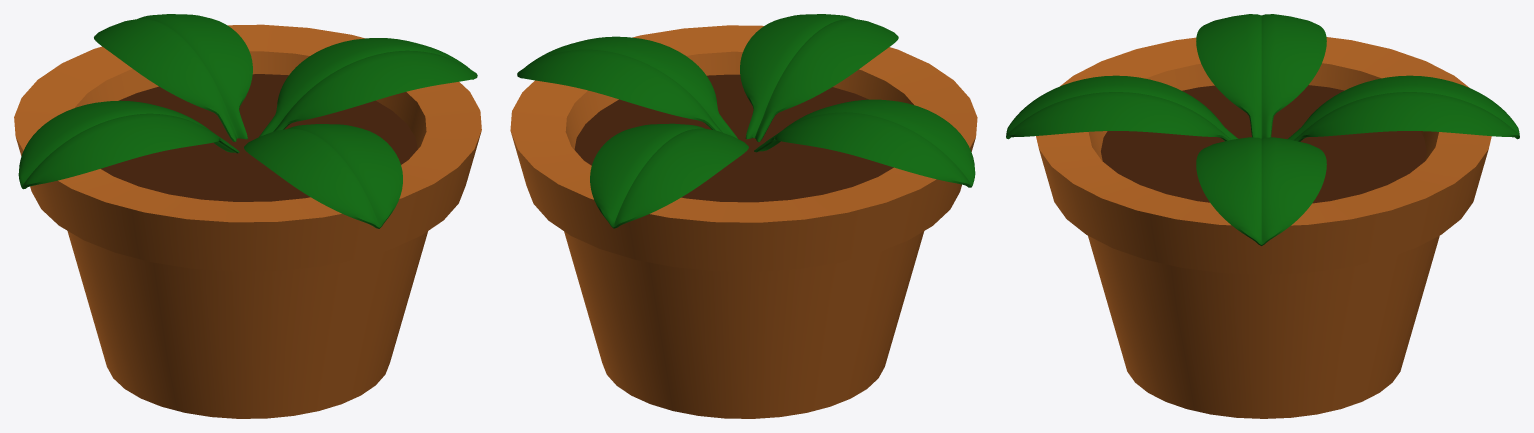
The model's file is FetoPlanta.fbx.
3 renders of one model, left to right at view 1: azimuth 30°, elevation 25°; view 2: azimuth 150°, elevation 25°; view 3: azimuth 270°, elevation 25°, orthographic. The views are drawn at different scales.
Visible parts, largest first — view 1: Maceta, Hojas; view 2: Maceta, Hojas; view 3: Maceta, Hojas.
Boxes of the visible parts, x1,y1,x2,y2 form: Maceta: (14, 24, 481, 418); Hojas: (18, 14, 477, 228); Maceta: (510, 25, 977, 418); Hojas: (517, 14, 975, 228); Maceta: (1036, 37, 1491, 418); Hojas: (1006, 14, 1519, 245).
Size of the model in its own units: 250 by 145 by 251.
